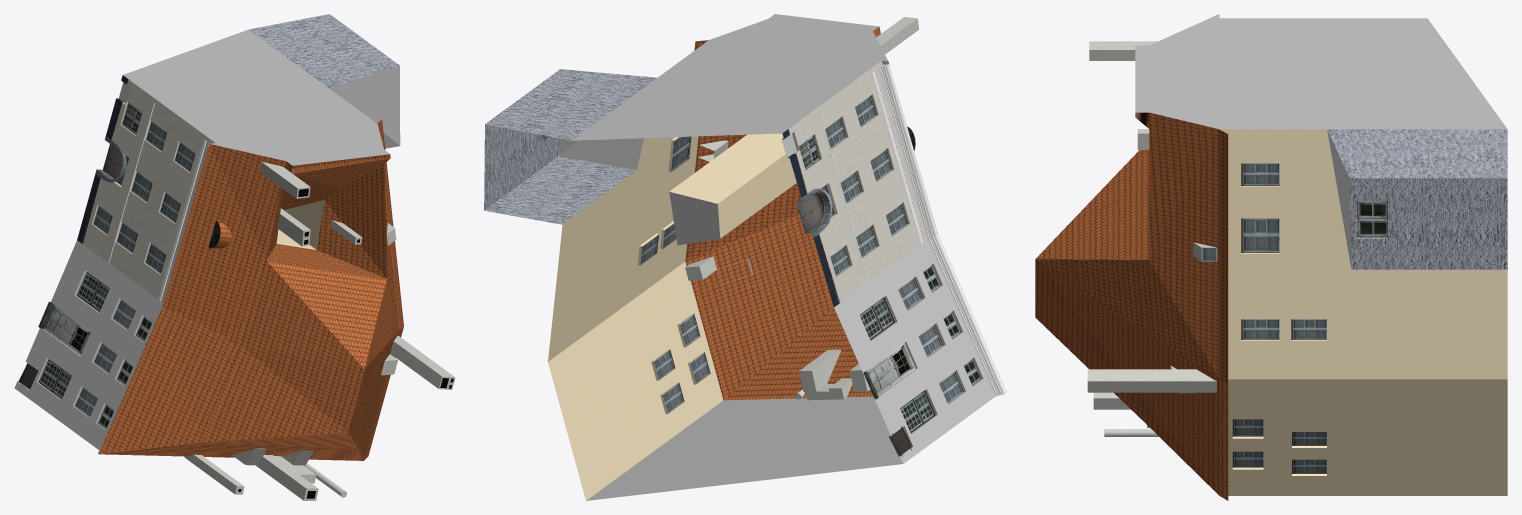
The model's file is Pikk_60.obj.
The picture shows the model from 3 angles, left to right: view 1: azimuth 30°, elevation 25°; view 2: azimuth 150°, elevation 25°; view 3: azimuth 270°, elevation 25°; orthographic projection. The views are drawn at different scales.
Visible parts, largest first — view 1: Pikk_60; view 2: Pikk_60; view 3: Pikk_60.
Boxes of the visible parts, box(x1,y1,x2,y2) form: Pikk_60: box(14, 14, 455, 500); Pikk_60: box(484, 14, 1006, 500); Pikk_60: box(1035, 14, 1507, 500).
Size of the model in its own units: 25.09 by 23.61 by 25.41.
